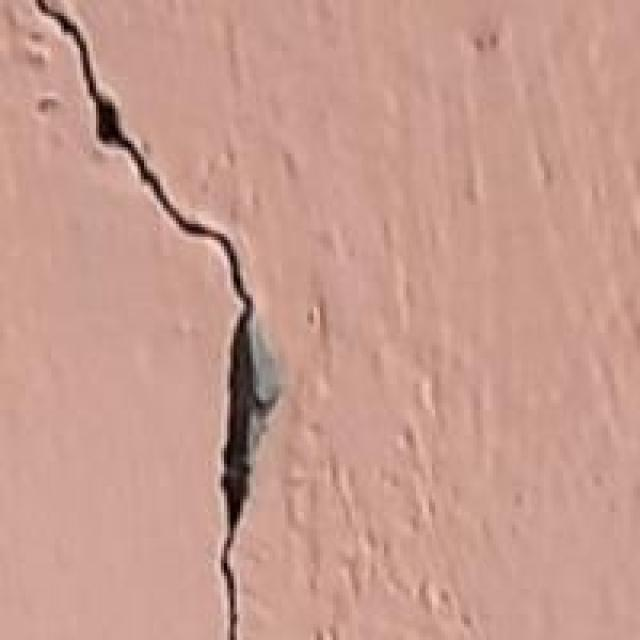Crack: (48, 0, 333, 637)
